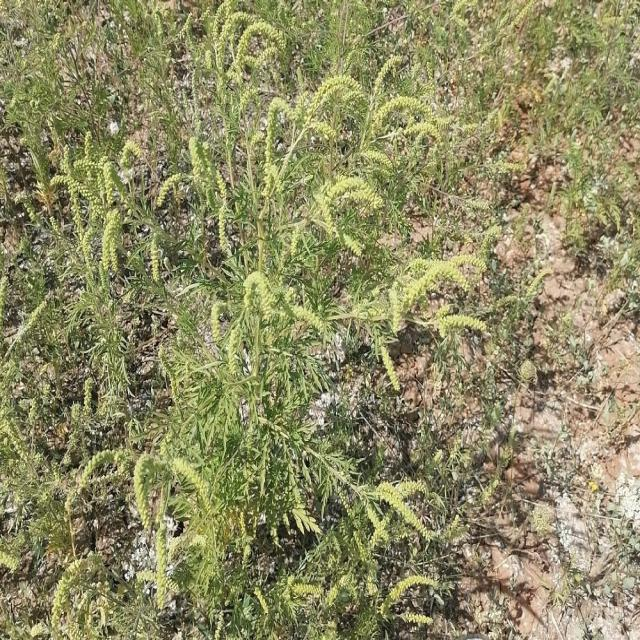ambrosia: (294, 444, 447, 640), (48, 126, 211, 309), (295, 52, 442, 246), (85, 415, 224, 600), (364, 233, 498, 379), (215, 254, 334, 385), (201, 0, 289, 106)
